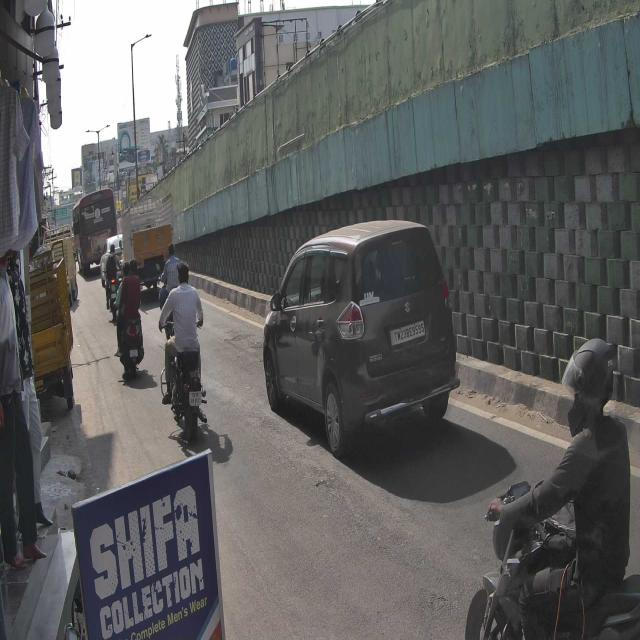single_rider: (467, 337, 640, 640), (158, 261, 212, 443)
